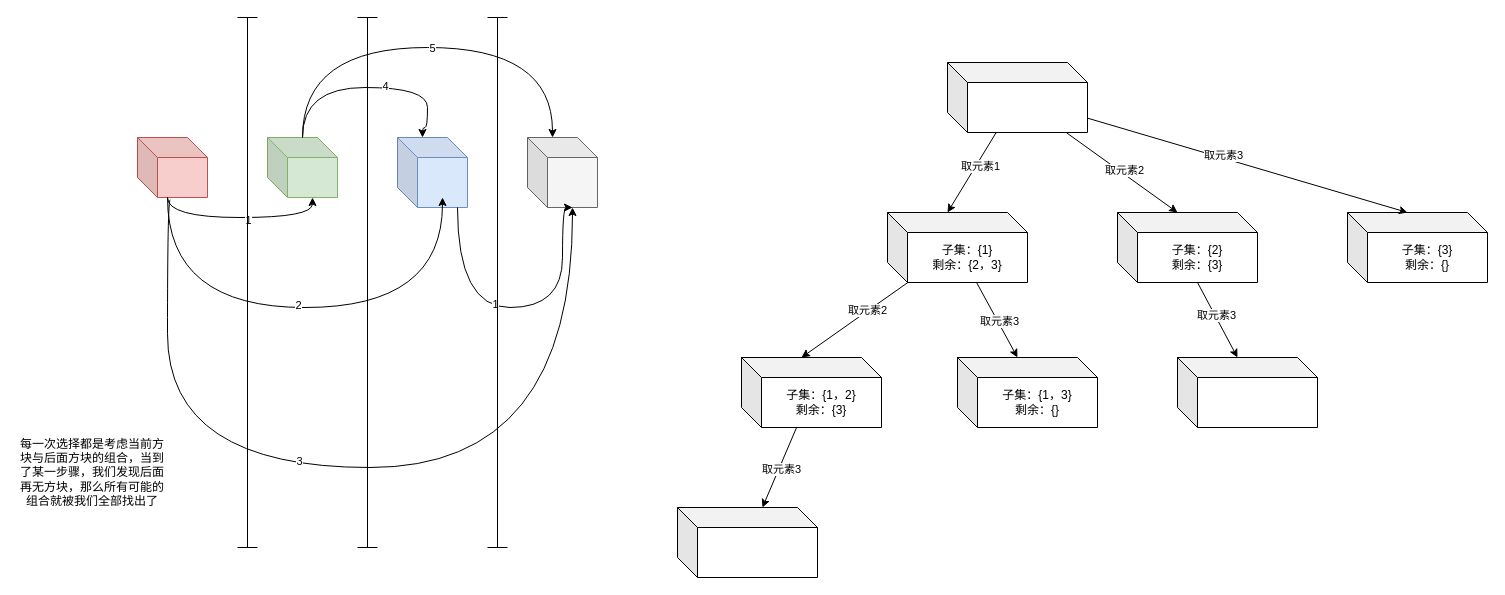
Some shapes in this 1505 by 595 pixel diagram are drawn without their labels. The shapes that lost their labels are listed below. From the top down, each one's centre as x and y in pixels, then its label:
point 1017,97: 子集：{ } 剩余：{1，2，3}
point 1247,392: 子集：{2，3 } 剩余：{}
point 747,542: 子集：{1，2，3 } 剩余：{}
